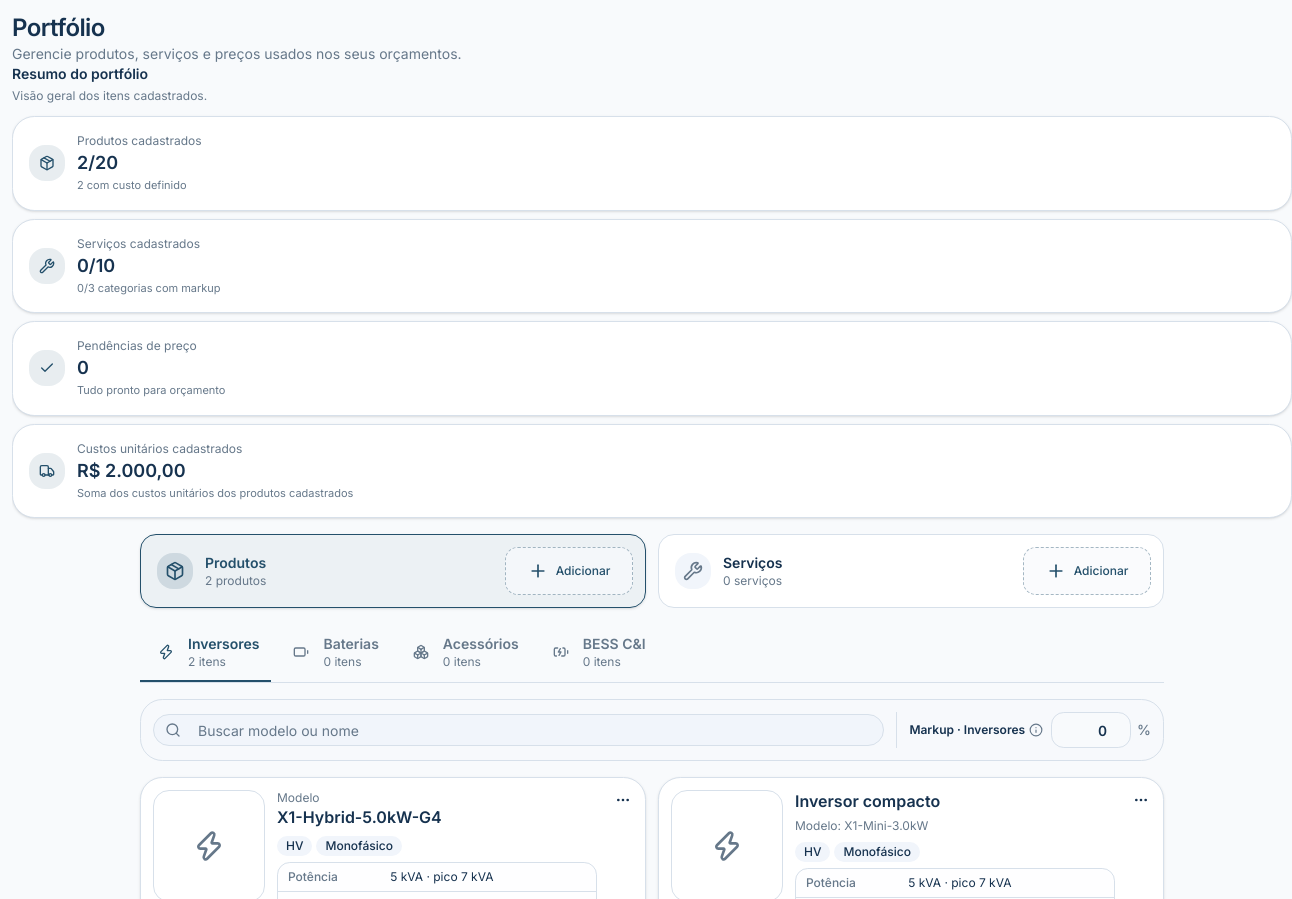
Test case: MyStockTab: listing › filters the active category by model or nickname
This screenshot has width=1292, height=899.
Type "compacto" into the field named "Buscar produto no portfólio".
click(519, 730); type("compacto")  # box [153,714,884,746]
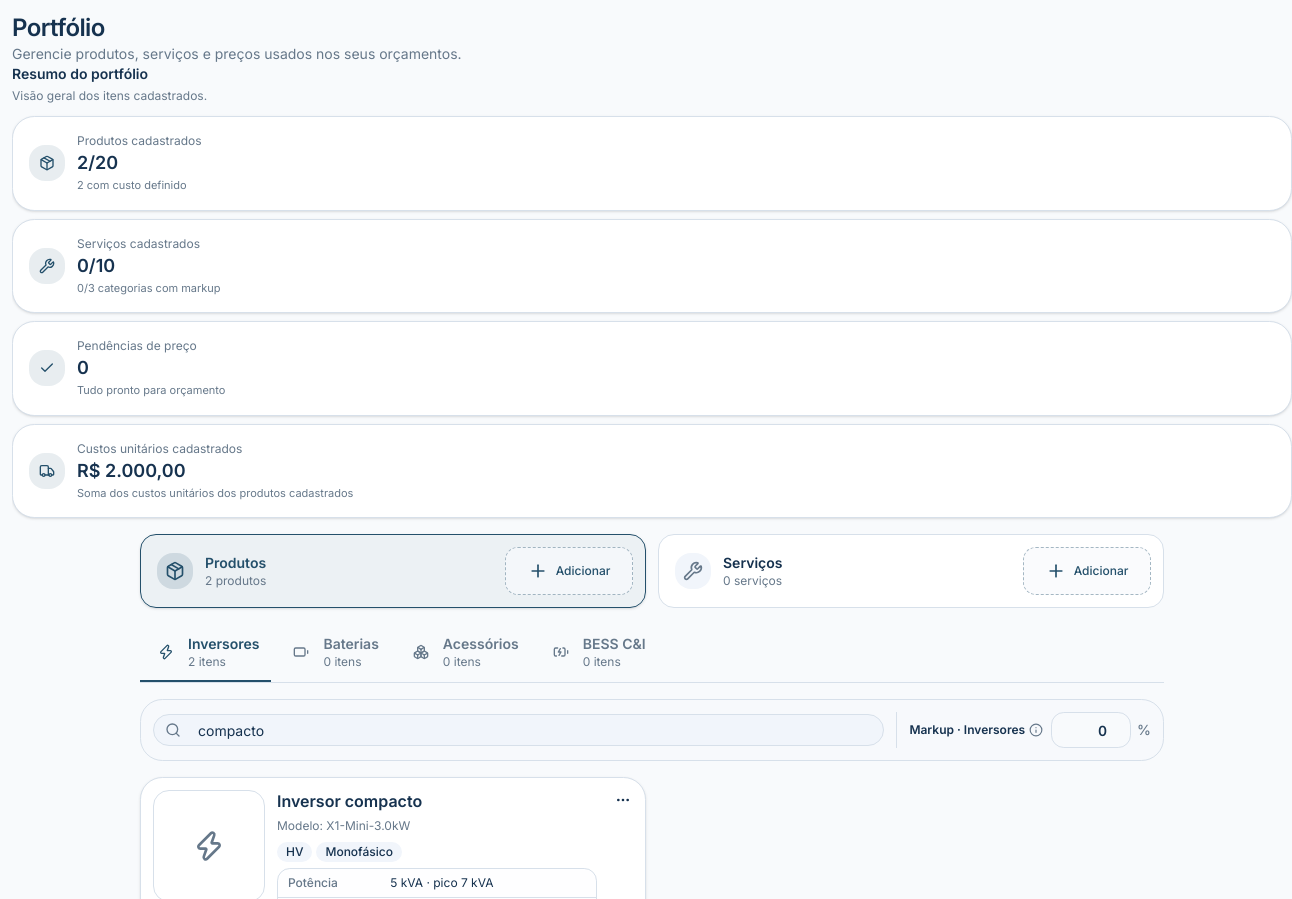
Expected: the text "Inversor compacto" is shown, [277,790,422,812]
Expected: the text "X1-Hybrid-5.0kW-G4" is gone
